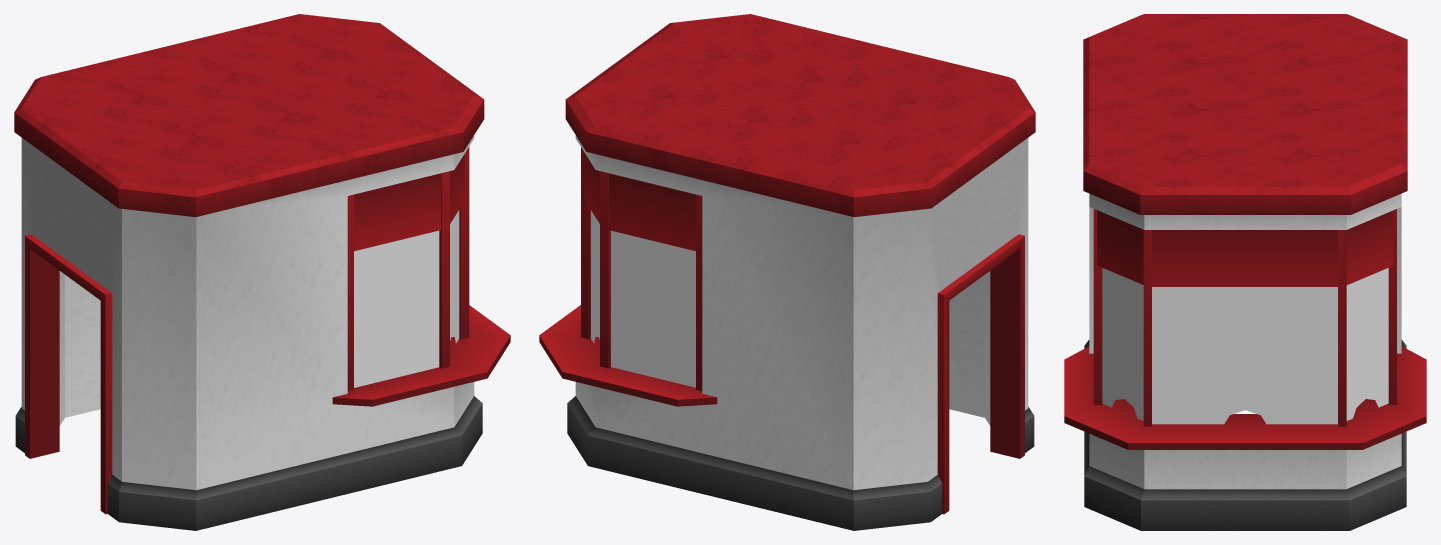
File: TicketBooth2.gltf
3 renders of one model, left to right at view 1: azimuth 30°, elevation 25°; view 2: azimuth 150°, elevation 25°; view 3: azimuth 270°, elevation 25°, orthographic.
Visible parts, largest first — view 1: TicketBooth; view 2: TicketBooth; view 3: TicketBooth.
Part boxes in pixels (bbox=[...]): TicketBooth: bbox=[14, 14, 510, 530]; TicketBooth: bbox=[539, 14, 1035, 530]; TicketBooth: bbox=[1064, 14, 1426, 530].
Size of the model in its own units: 4.07 by 3.4 by 3.28.
Materials: 4 (2 with a texture image).
